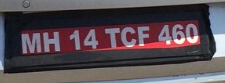0: (185, 23, 200, 44)
1: (69, 29, 82, 51)
4: (83, 28, 100, 49), (157, 24, 173, 46)
6: (171, 23, 186, 46)
C: (121, 26, 137, 47)
F: (136, 26, 151, 47)
H: (42, 31, 62, 52)
M: (21, 33, 42, 54)
T: (104, 27, 121, 48)
